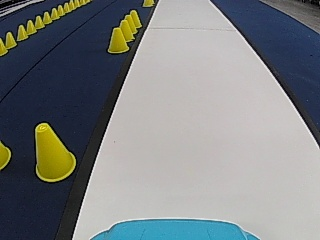cone: (33, 122, 75, 181), (107, 26, 129, 54), (118, 19, 134, 41), (0, 143, 12, 170), (127, 10, 142, 28), (125, 14, 138, 32), (5, 31, 16, 48), (17, 24, 27, 40), (26, 20, 36, 34), (34, 15, 44, 28), (42, 11, 51, 24), (0, 39, 7, 55), (50, 8, 58, 19), (57, 5, 63, 15)
